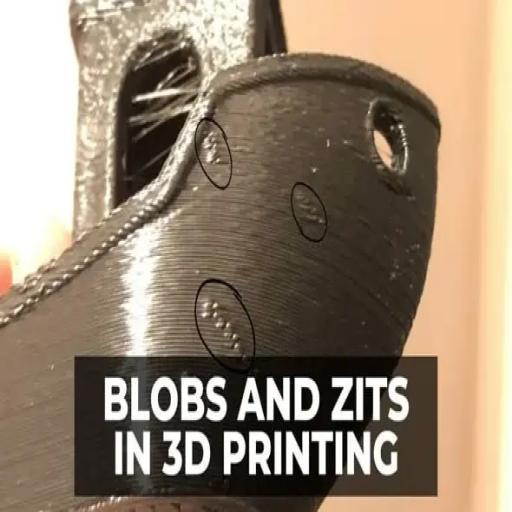blobs: (205, 290, 249, 362), (296, 188, 324, 234), (206, 123, 226, 183)
stringing: (112, 40, 205, 121)
